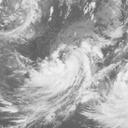cyclone: (31, 47, 92, 97)
